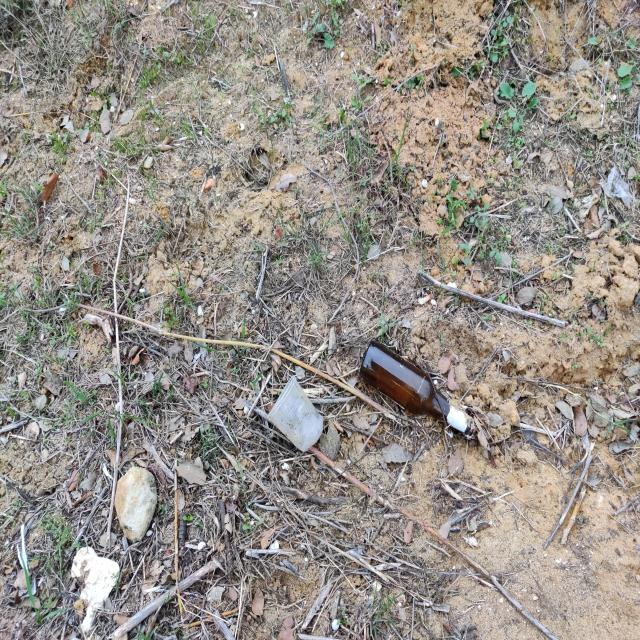litter: (356, 333, 472, 439)
